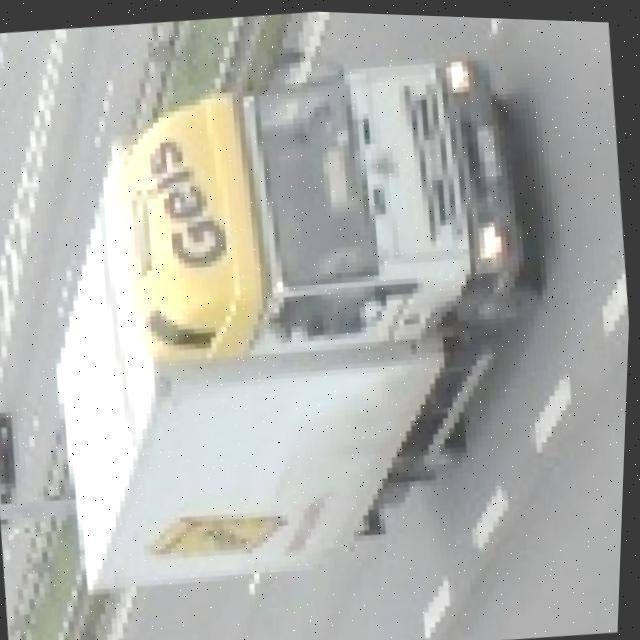truck: (11, 18, 568, 598)
